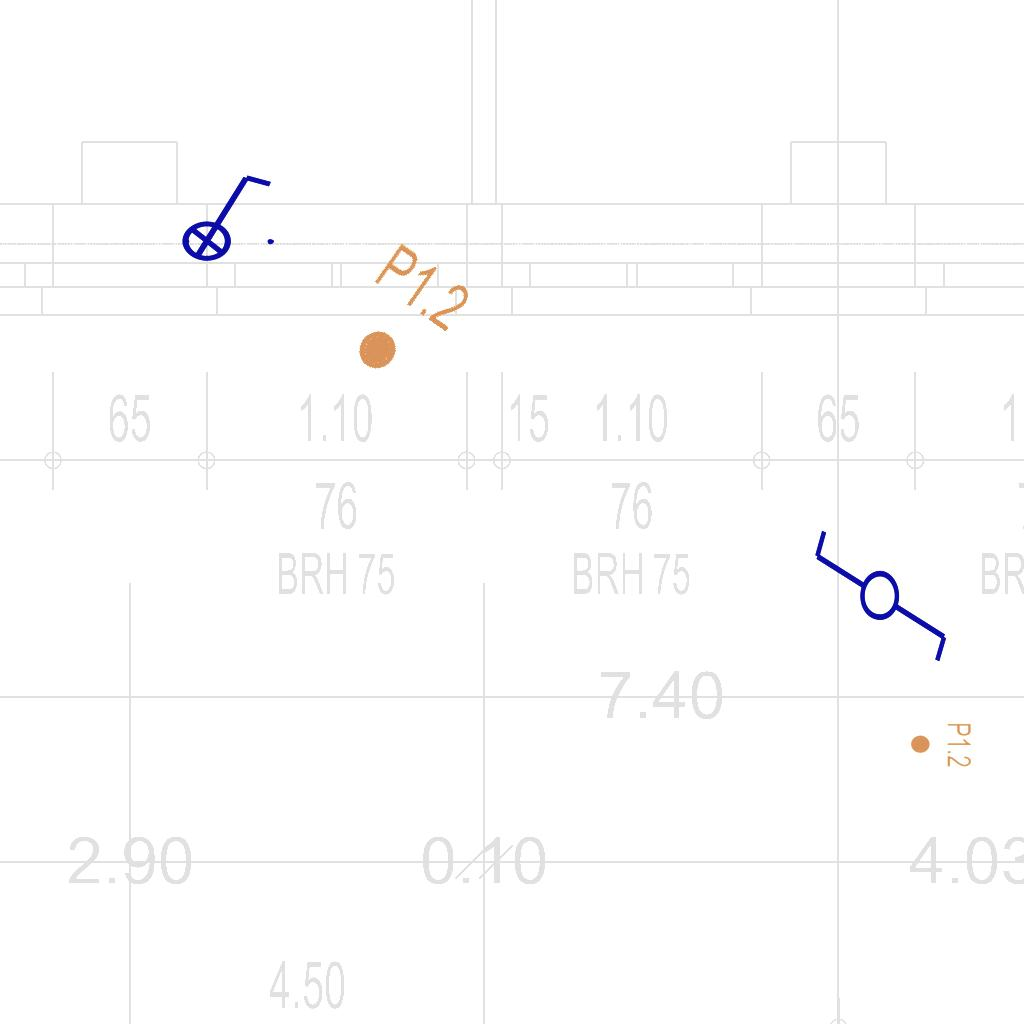Ausschalter_beleuchtet: (168, 167, 280, 263)
Downlight_LED_Einbauleuchten_Flur: (327, 237, 478, 397), (909, 722, 973, 768)
Wechselschalter: (810, 509, 954, 666)
